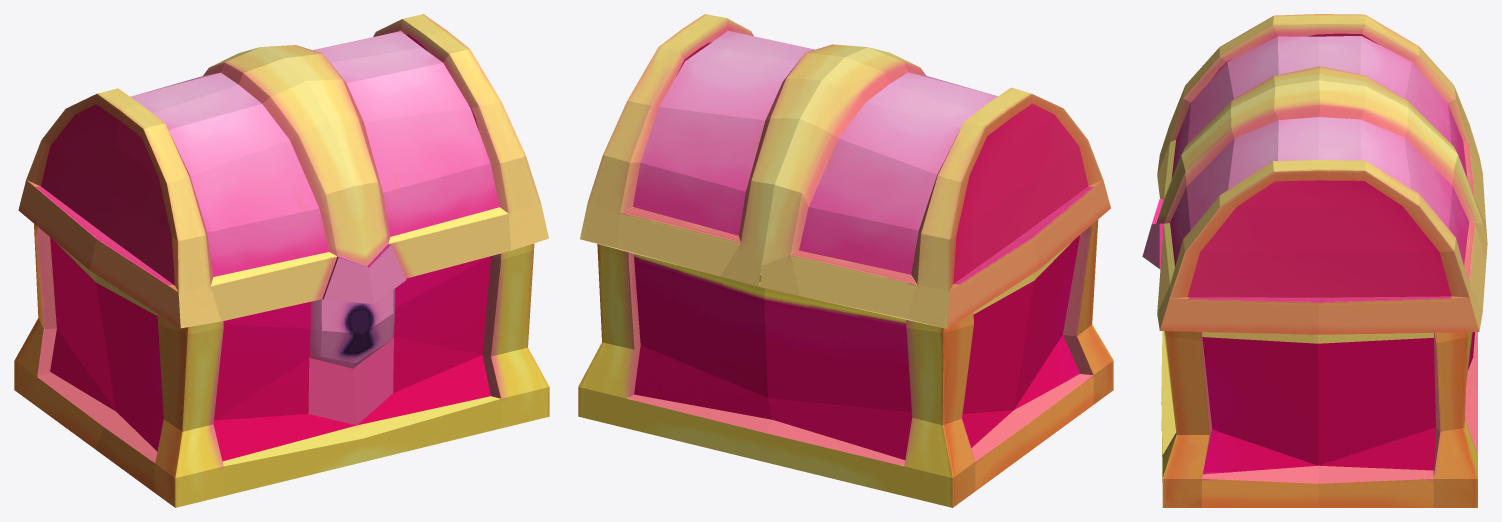
The model's file is Cofre_Carmen.fbx.
3 renders of one model, left to right at view 1: azimuth 30°, elevation 25°; view 2: azimuth 150°, elevation 25°; view 3: azimuth 270°, elevation 25°, orthographic. The views are drawn at different scales.
Parts seen in each view (by area): view 1: Top Chest.001, Chest; view 2: Top Chest.001, Chest; view 3: Top Chest.001, Chest.
Part boxes in pixels (x1,y1,x2,y2): Top Chest.001: (18,14,548,328); Chest: (14,222,549,507); Top Chest.001: (580,14,1110,328); Chest: (578,219,1113,507); Top Chest.001: (1142,14,1487,334); Chest: (1161,331,1477,507).
Bounding box in the file's own units: 276 × 236 × 217.
Materials: 2 (2 with a texture image).
